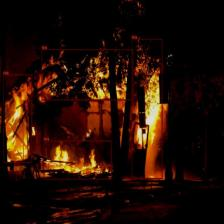fire: (41, 49, 133, 100), (132, 38, 162, 179), (44, 140, 111, 180), (3, 74, 32, 163)
